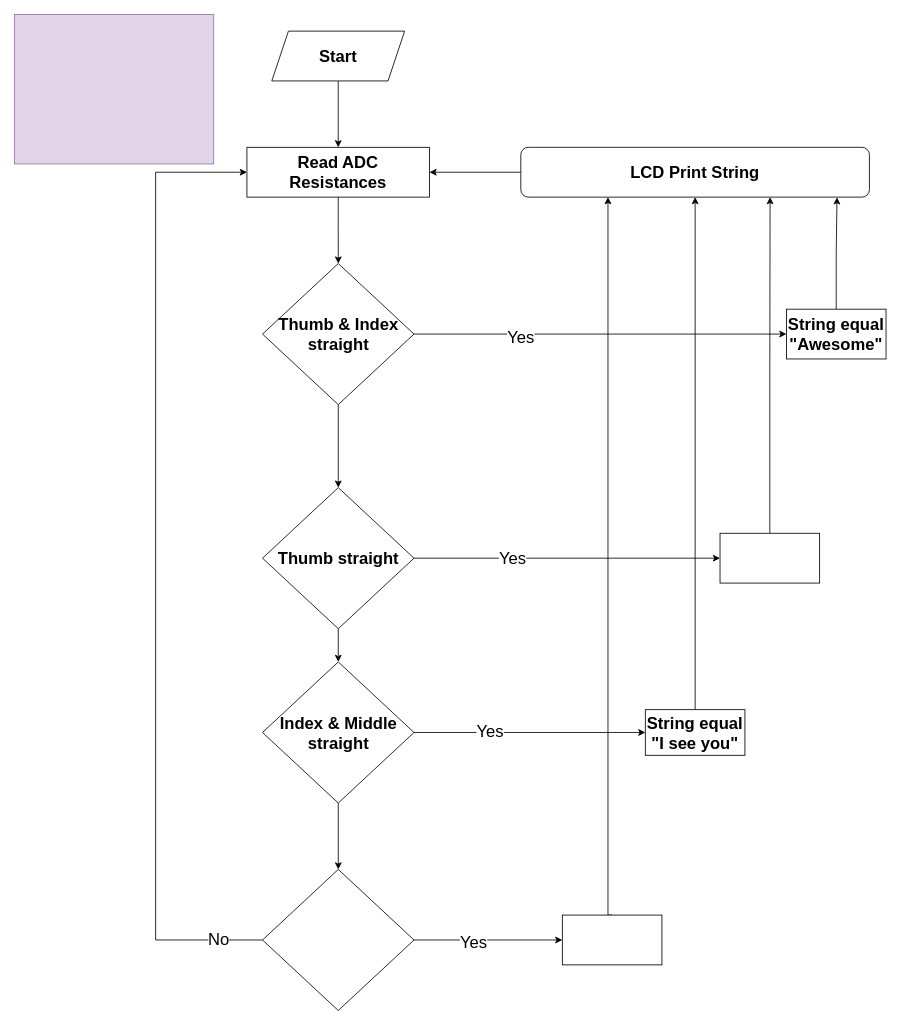
Some shapes in this 901 by 1025 pixel diagram are drawn without their labels. The shapes that lost their labels are listed below. From the top down, each one's box as (x1, y1, x2, y2) in pixels, then its label:
(14, 14, 214, 164): All other fingers are bent when comparing
(719, 532, 820, 583): String equal "Good Job"
(262, 869, 414, 1011): Index straight
(561, 914, 662, 965): String equal "You"
